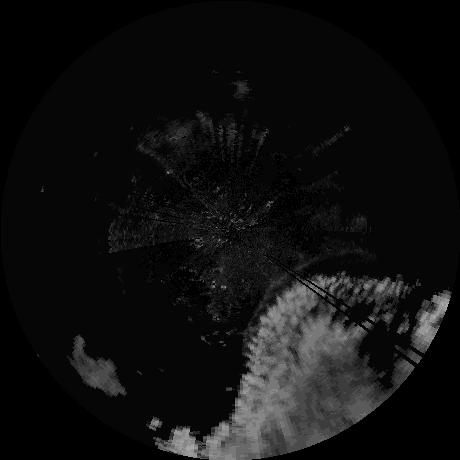frontgust: (249, 255, 323, 315)
